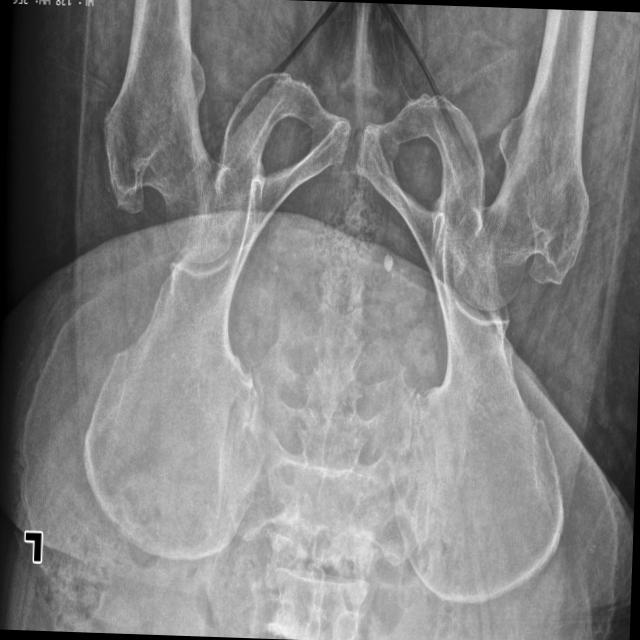normal-left: (103, 0, 239, 263)
normal-right: (451, 8, 598, 310)
